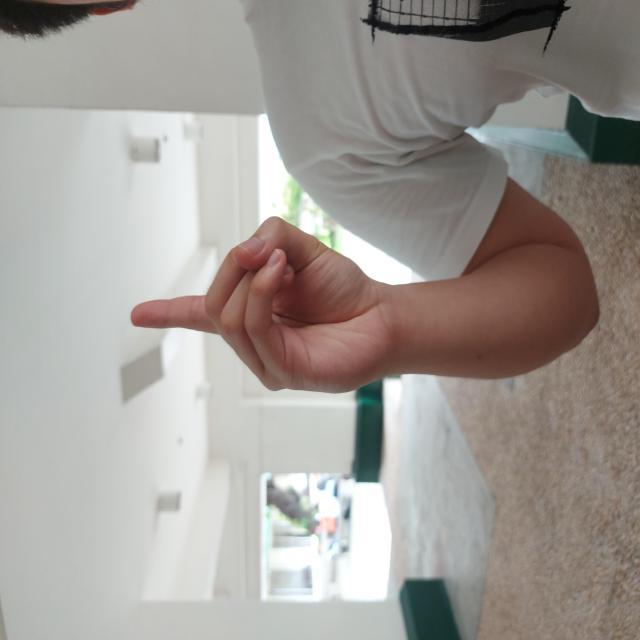D: (242, 126, 427, 391)
